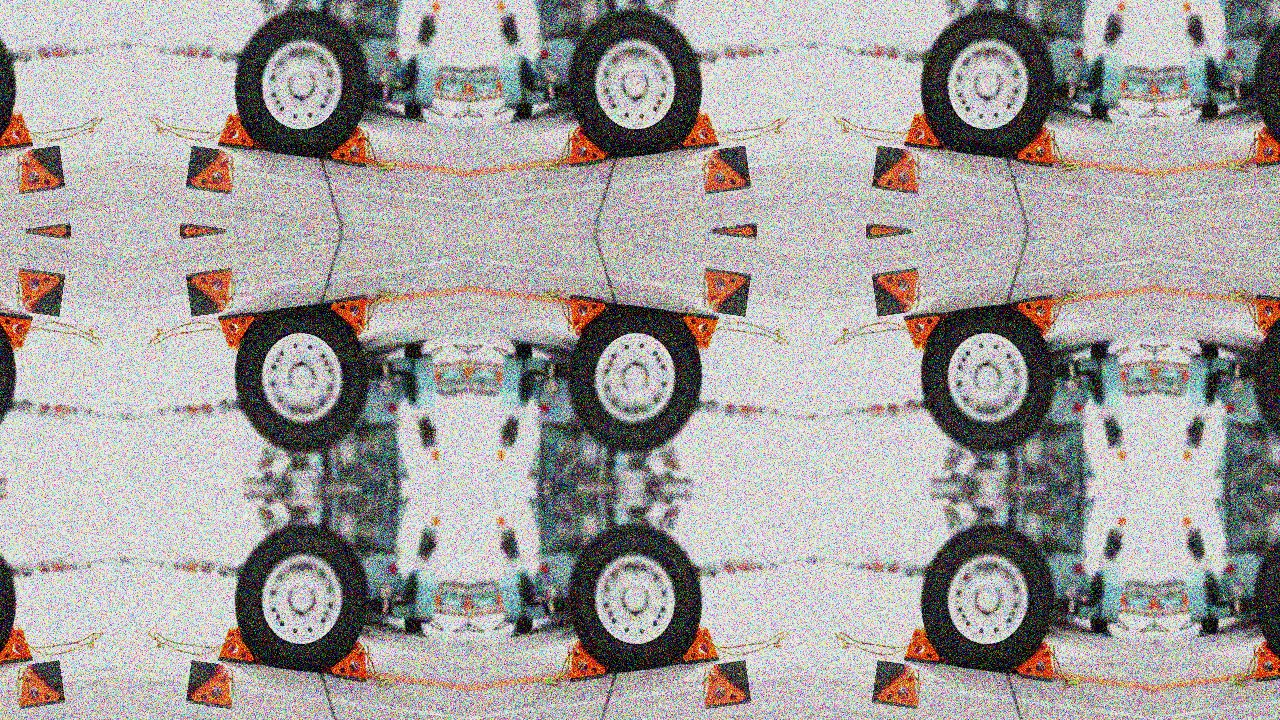chock: (13, 145, 65, 194), (185, 145, 237, 194), (699, 145, 751, 194), (872, 145, 924, 194), (13, 268, 65, 317), (185, 268, 237, 317), (699, 268, 751, 317), (872, 268, 924, 317), (13, 661, 65, 710), (185, 661, 237, 710), (699, 661, 751, 710), (872, 661, 924, 710), (326, 122, 373, 166), (326, 296, 373, 340), (326, 638, 373, 682), (675, 105, 720, 150), (675, 312, 720, 357), (675, 621, 720, 666), (564, 122, 610, 166), (1013, 122, 1059, 166), (564, 296, 610, 340), (1013, 296, 1059, 340), (564, 638, 610, 682), (1013, 638, 1059, 682), (217, 105, 261, 150), (904, 105, 948, 150), (217, 312, 261, 357), (904, 312, 948, 357), (217, 621, 261, 666), (904, 621, 948, 666), (0, 105, 33, 150), (0, 312, 33, 357), (0, 621, 33, 666), (1251, 122, 1280, 166), (1251, 296, 1280, 340), (1251, 638, 1280, 682)
wheel: (227, 3, 375, 163), (562, 3, 710, 163), (914, 3, 1062, 163), (227, 299, 375, 459), (562, 299, 710, 459), (914, 299, 1062, 459), (227, 518, 375, 678), (562, 518, 710, 678), (914, 518, 1062, 678), (1248, 3, 1280, 163), (1248, 299, 1280, 459), (1248, 518, 1280, 678), (0, 3, 23, 163), (0, 299, 23, 459), (0, 518, 23, 678), (403, 102, 422, 119), (403, 343, 422, 360), (515, 102, 533, 119), (1090, 102, 1108, 119), (1202, 102, 1220, 119), (515, 343, 533, 360), (1090, 343, 1108, 360), (1202, 343, 1220, 360), (403, 618, 422, 634), (515, 618, 533, 634), (1090, 618, 1108, 634), (1202, 618, 1220, 634)
